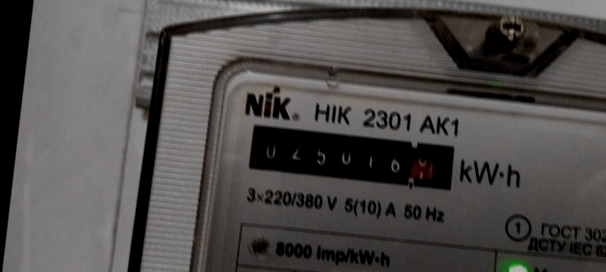0: (339, 142, 355, 166), (263, 137, 278, 160), (415, 145, 429, 167)
1: (363, 143, 377, 169), (415, 168, 425, 180)
2: (289, 137, 304, 161)
5: (314, 143, 327, 165)
6: (387, 149, 403, 175)
screen: (238, 112, 466, 198)
